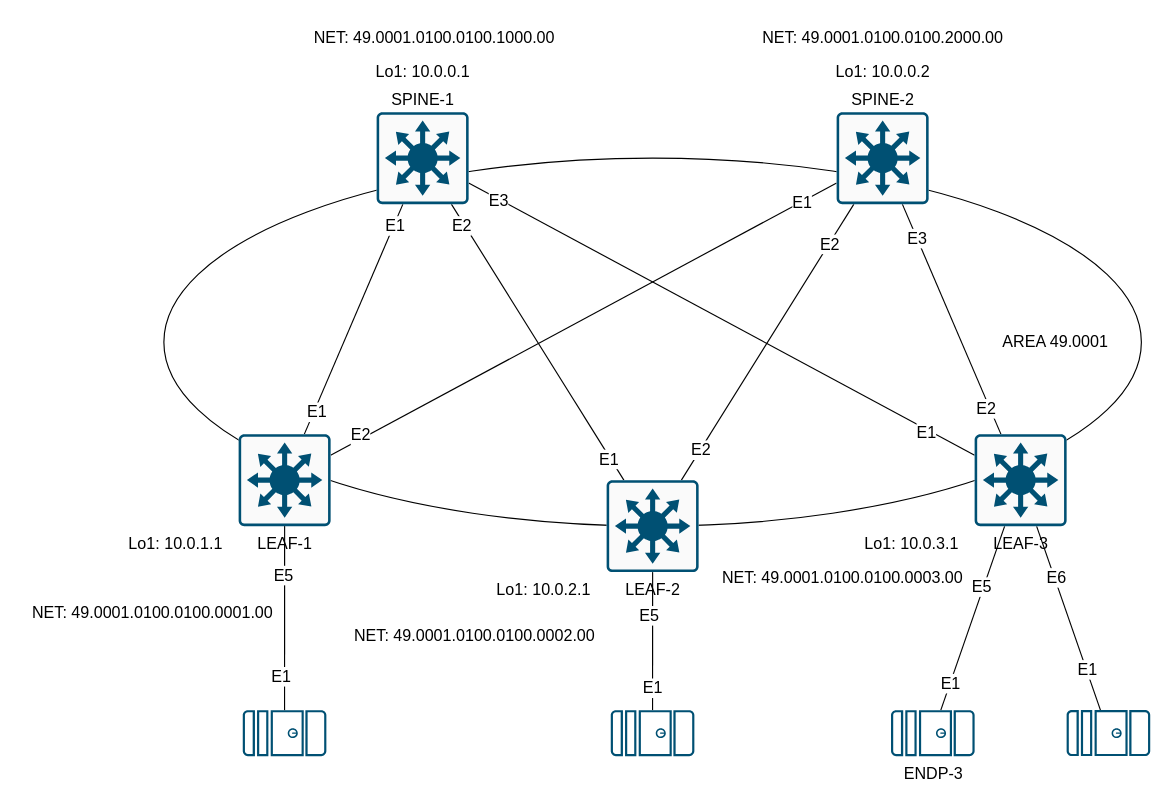
Image size: 1170x803. Some labels were removed from this diagram. The centre of each missing label's shape, as x and y in pixels:
ENDP-1: point (284, 733)
ENDP-2: point (652, 733)
ENDP-4: point (1108, 733)
